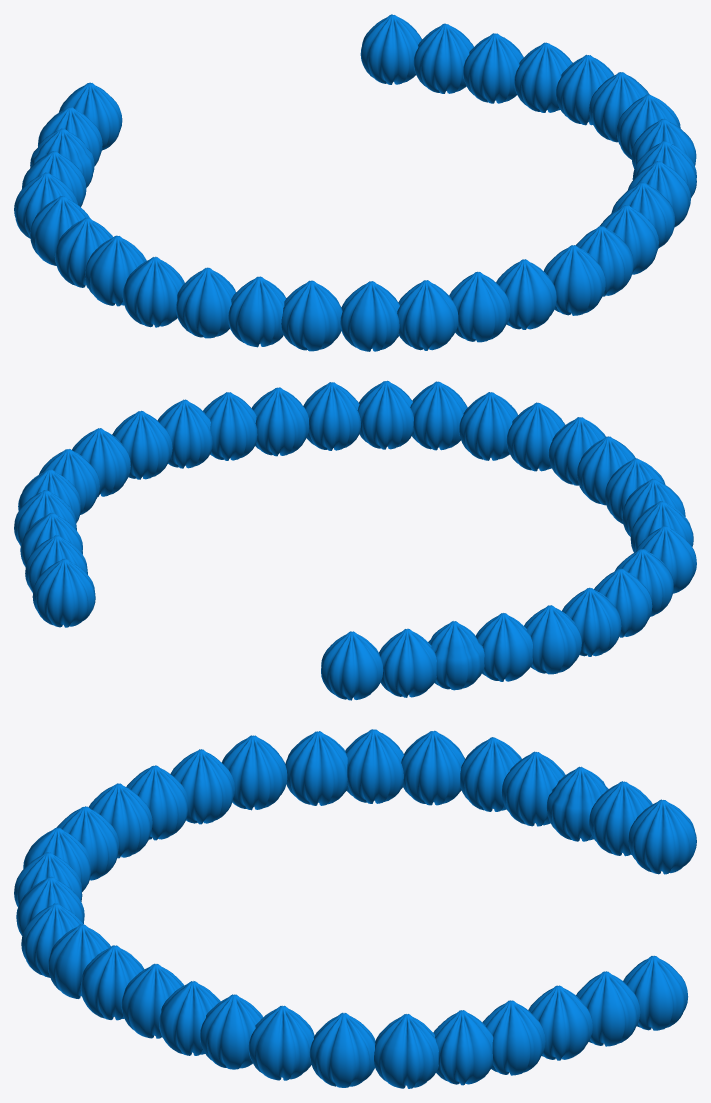
Rendered from TopDecoration.glb.
The picture shows the model from 3 angles, top to bottom: view 1: azimuth 30°, elevation 25°; view 2: azimuth 150°, elevation 25°; view 3: azimuth 270°, elevation 25°; orthographic projection. The views are drawn at different scales.
Visible parts, largest first — view 1: Sphere.028; view 2: Sphere.028; view 3: Sphere.028.
Part boxes in pixels (x1,y1,x2,y2): Sphere.028: [14, 14, 696, 351]; Sphere.028: [14, 380, 696, 700]; Sphere.028: [14, 729, 696, 1088].
Bounding box in the file's own units: 2.03 × 0.2184 × 1.87.
